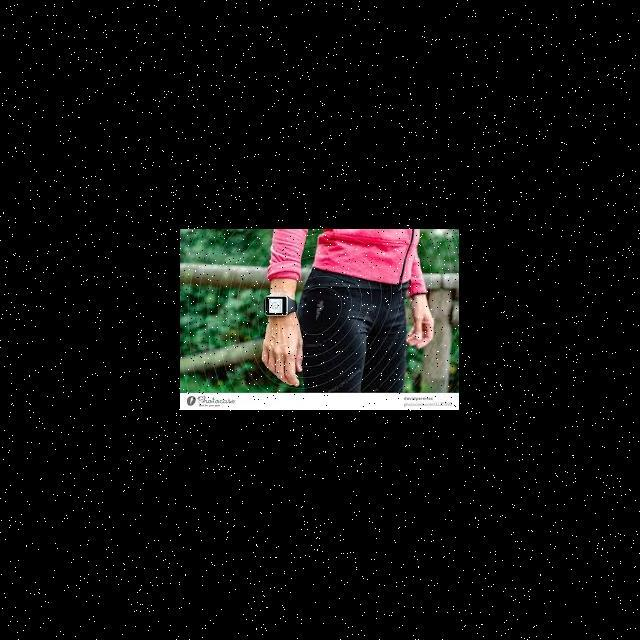watch: (257, 277, 303, 330)
